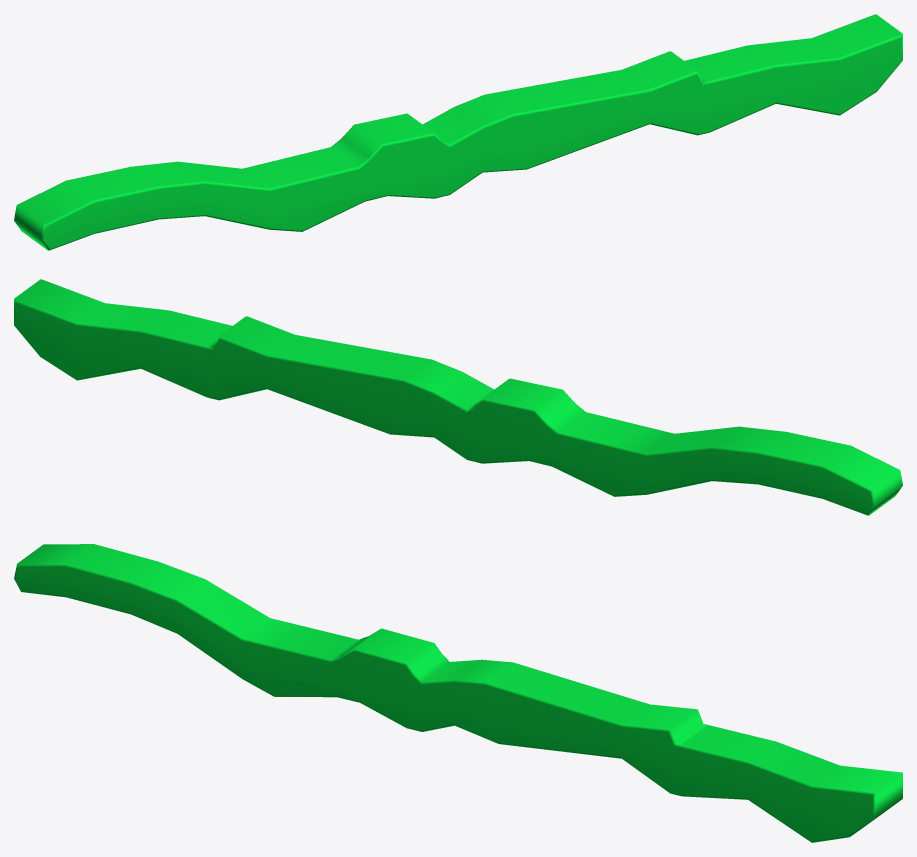
Rendered from CaveTop_01.fbx.
The picture shows the model from 3 angles, top to bottom: view 1: azimuth 30°, elevation 25°; view 2: azimuth 150°, elevation 25°; view 3: azimuth 330°, elevation 25°; orthographic projection.
Visible parts, largest first — view 1: CaveTop; view 2: CaveTop; view 3: CaveTop.
Boxes of the visible parts, x1,y1,x2,y2 form: CaveTop: (14,14,902,250); CaveTop: (14,279,902,515); CaveTop: (14,544,902,842).
Bounding box in the file's own units: 469451 × 50765 × 27295.
